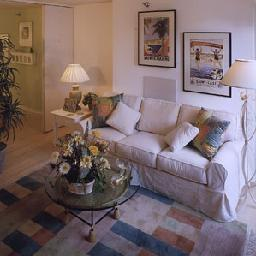Puerta: (43, 7, 68, 128)
